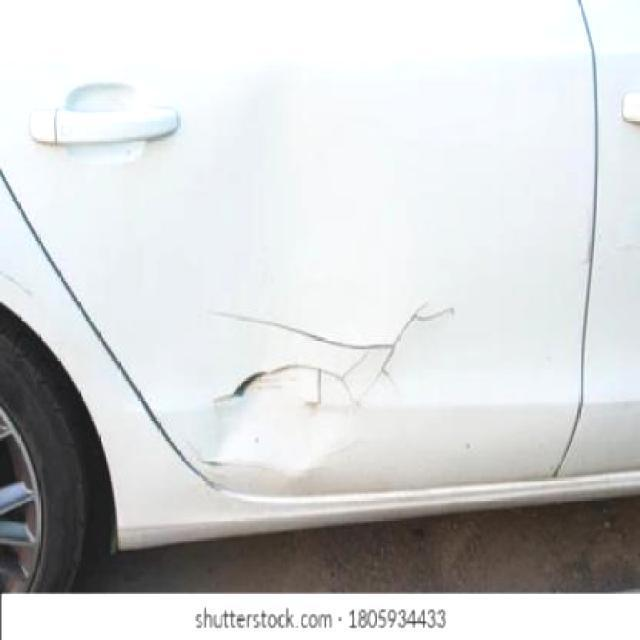minor: (212, 300, 454, 478), (0, 272, 32, 297)
